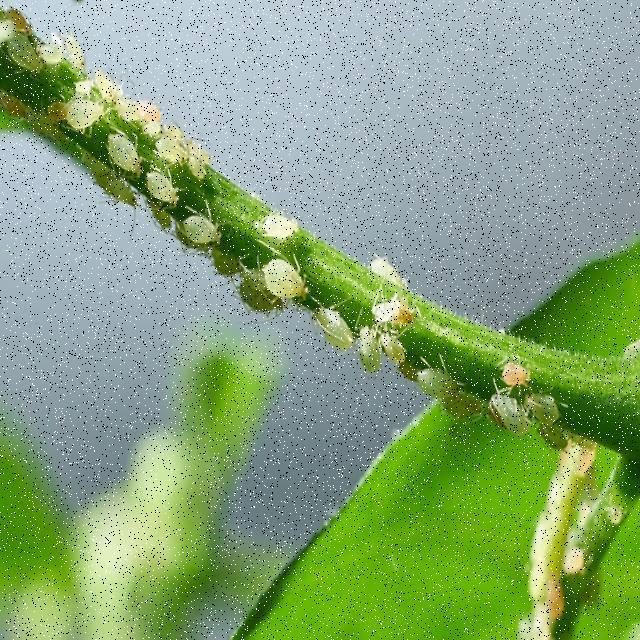Aphids: (385, 527, 456, 640), (380, 358, 433, 477)
